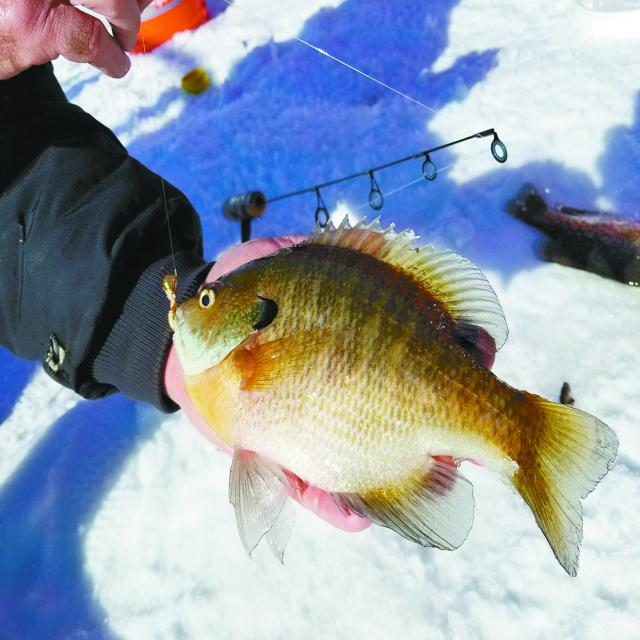Bluegill: (174, 220, 618, 573)
